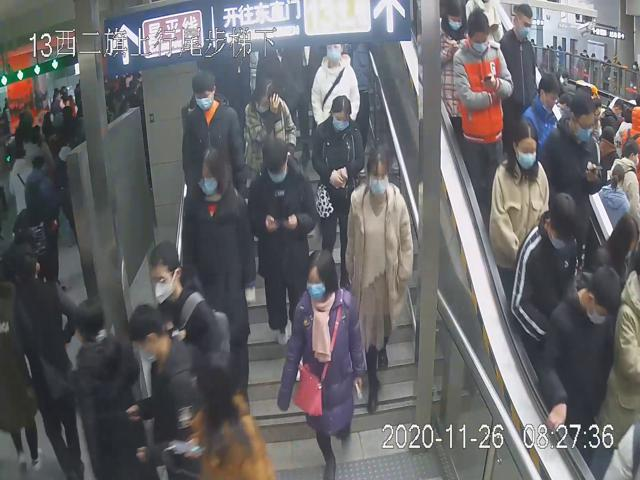person: (274, 244, 370, 477), (175, 139, 258, 408), (343, 137, 413, 415), (249, 139, 318, 350), (449, 10, 515, 207), (308, 96, 365, 292), (487, 116, 550, 282), (179, 67, 248, 208), (240, 72, 298, 184), (310, 39, 364, 132)
